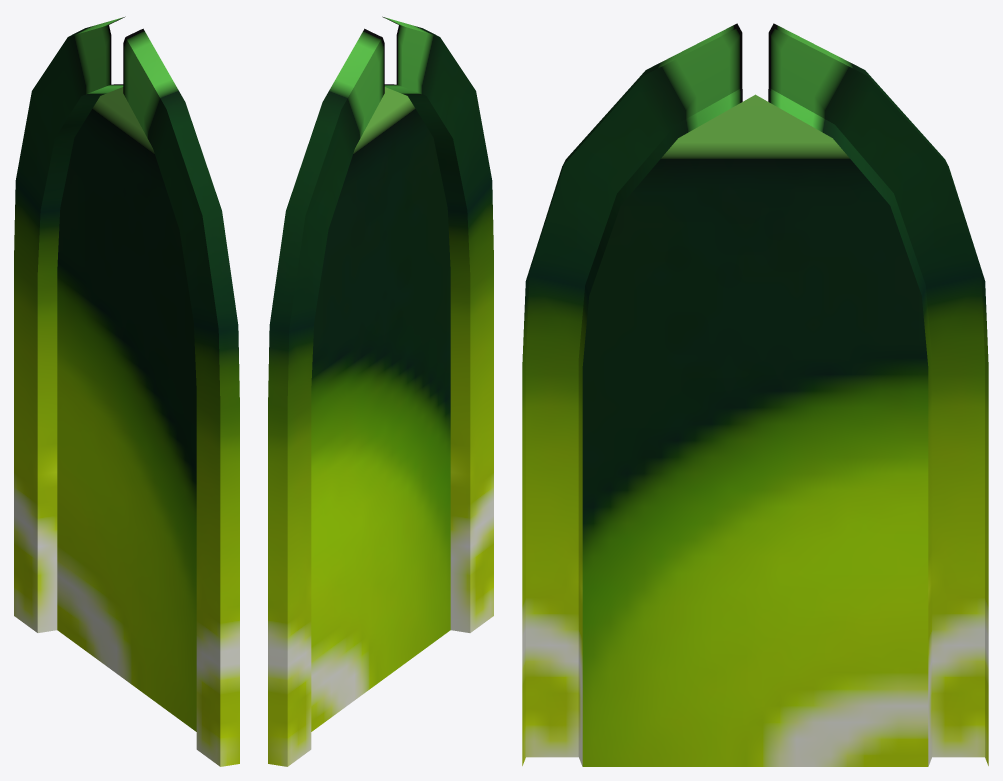
The model's file is sn_shengdi_windor_001.FBX.
The picture shows the model from 3 angles, left to right: view 1: azimuth 30°, elevation 25°; view 2: azimuth 150°, elevation 25°; view 3: azimuth 270°, elevation 25°; orthographic projection. The views are drawn at different scales.
Visible parts, largest first — view 1: sn_shengdi_windor_001; view 2: sn_shengdi_windor_001; view 3: sn_shengdi_windor_001.
Part boxes in pixels (left/top/right/bottom): sn_shengdi_windor_001: left=14, top=16, right=239, bottom=766; sn_shengdi_windor_001: left=268, top=16, right=493, bottom=766; sn_shengdi_windor_001: left=522, top=23, right=988, bottom=766.
Size of the model in its own units: 15.54 by 317 by 560.
